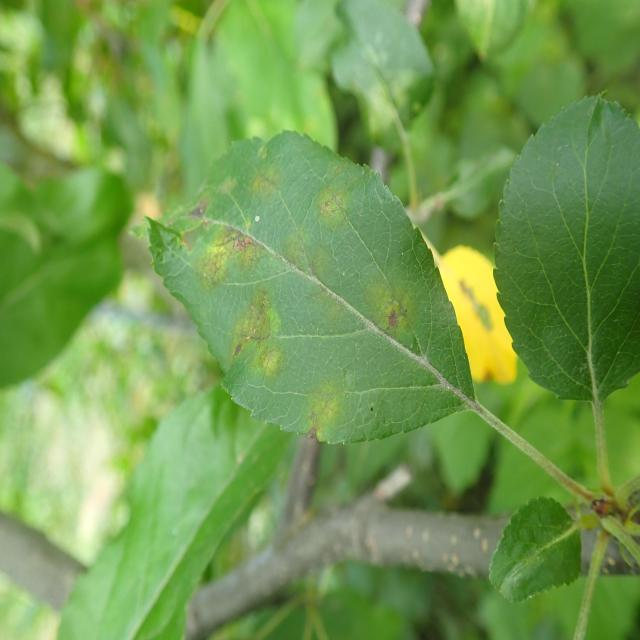scab: (162, 131, 454, 444)
